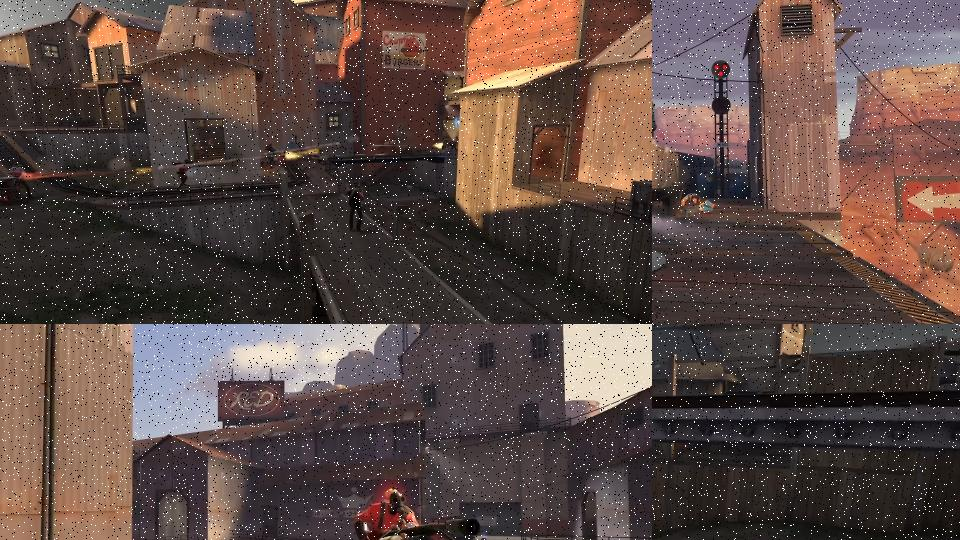Enemy: (347, 483, 481, 540), (345, 179, 367, 236), (171, 157, 202, 193), (8, 161, 36, 200), (265, 143, 287, 166), (697, 199, 719, 215), (682, 191, 700, 207), (652, 95, 657, 143)
